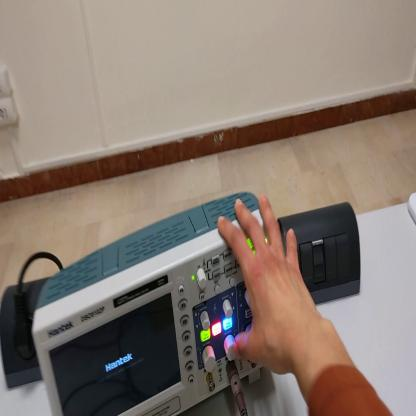hand: (219, 193, 318, 376)
oscilloscope: (36, 195, 267, 416)
socket: (2, 282, 49, 390)
